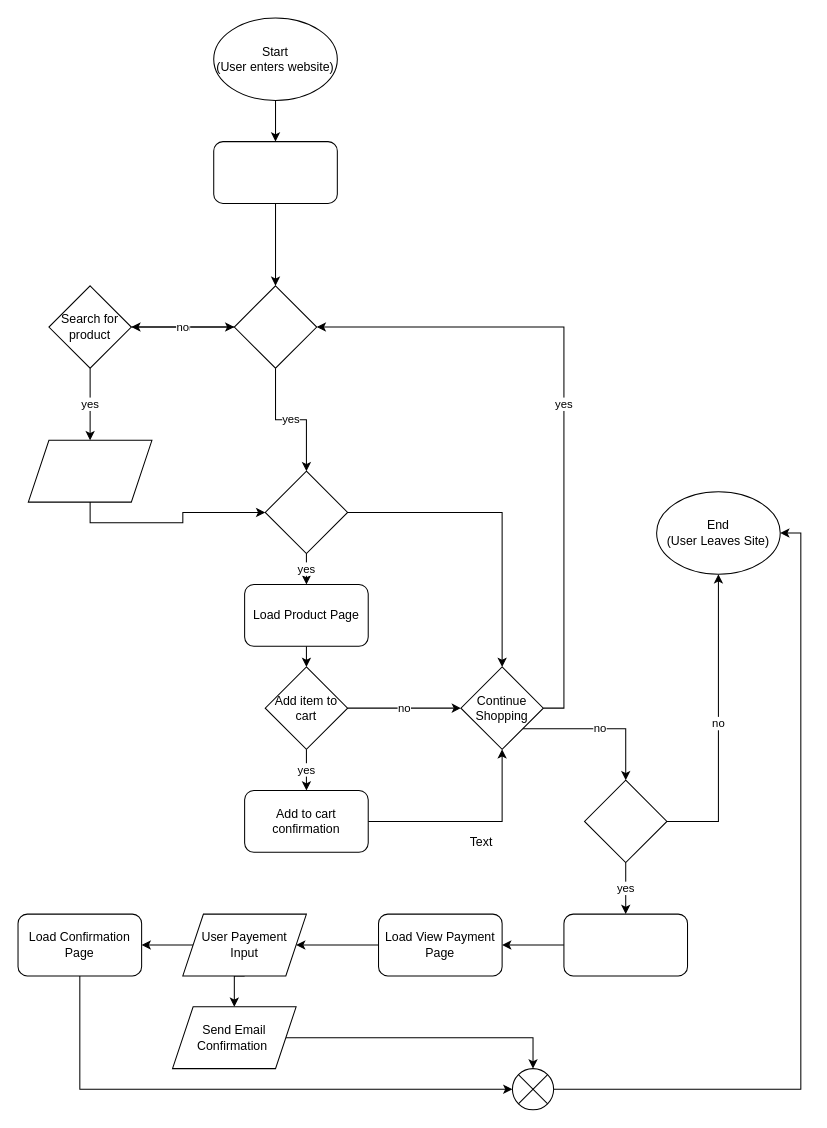
Image size: 827x1128. Some labels were removed from this diagram. The shapes that lost their labels are listed below. From the top down, each one's centre as x and y in pixels, then its label:
At point (275, 172): "Homepage Loads".
At point (275, 326): "Explore Webpage".
At point (89, 470): "User search input".
At point (306, 512): "View Product".
At point (625, 821): "Checkout".
At point (625, 944): "Load Cart Page".
